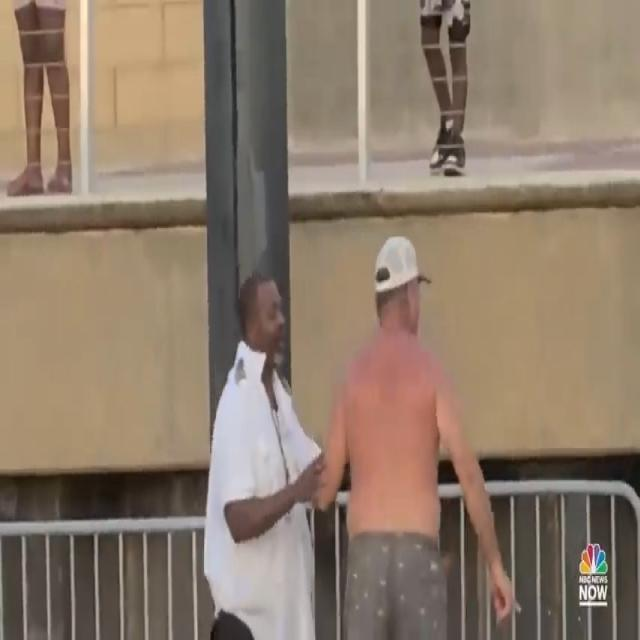non-fight: (188, 243, 522, 640)
